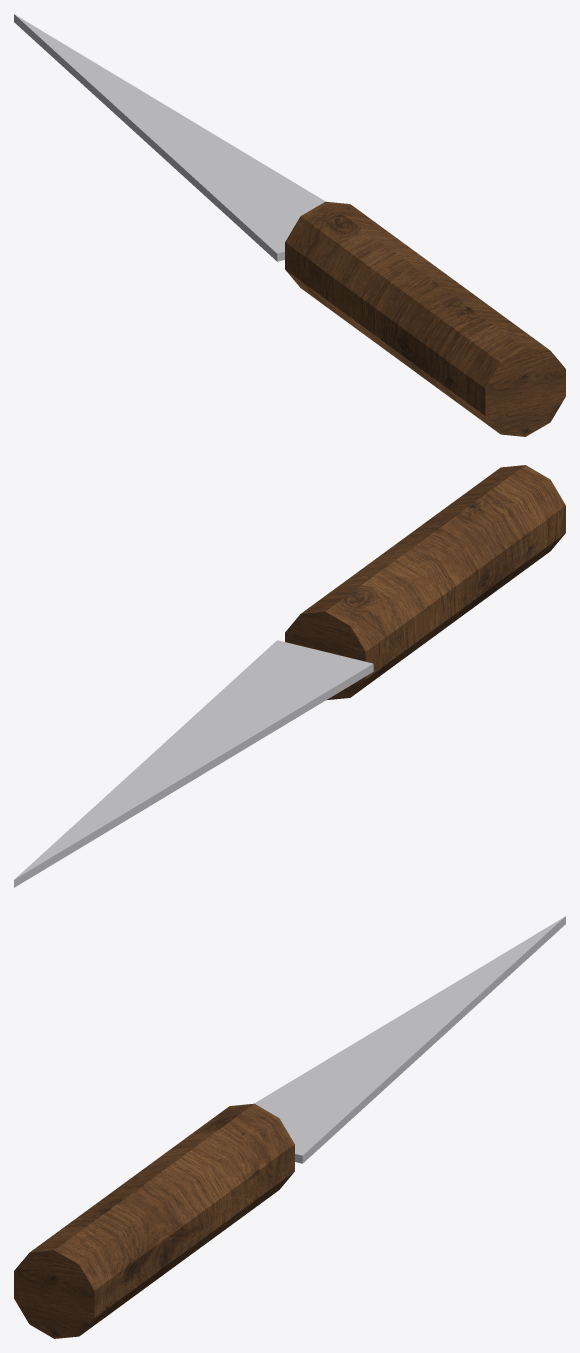
File: Knife.fbx
3 views of the same model, one above another, from view 1: azimuth 30°, elevation 25°; view 2: azimuth 150°, elevation 25°; view 3: azimuth 330°, elevation 25° (orthographic).
Parts seen in each view (by area): view 1: Knife_Handle, Knife_Blade; view 2: Knife_Handle, Knife_Blade; view 3: Knife_Handle, Knife_Blade.
Boxes of the visible parts, bbox=[...] form: Knife_Handle: bbox=[285, 201, 565, 436]; Knife_Blade: bbox=[14, 14, 325, 261]; Knife_Handle: bbox=[285, 465, 565, 700]; Knife_Blade: bbox=[14, 640, 373, 887]; Knife_Handle: bbox=[14, 1103, 294, 1338]; Knife_Blade: bbox=[254, 916, 565, 1163].
Bounding box in the file's own units: 2.5 × 2.2 × 23.
2 materials, 1 textured.
